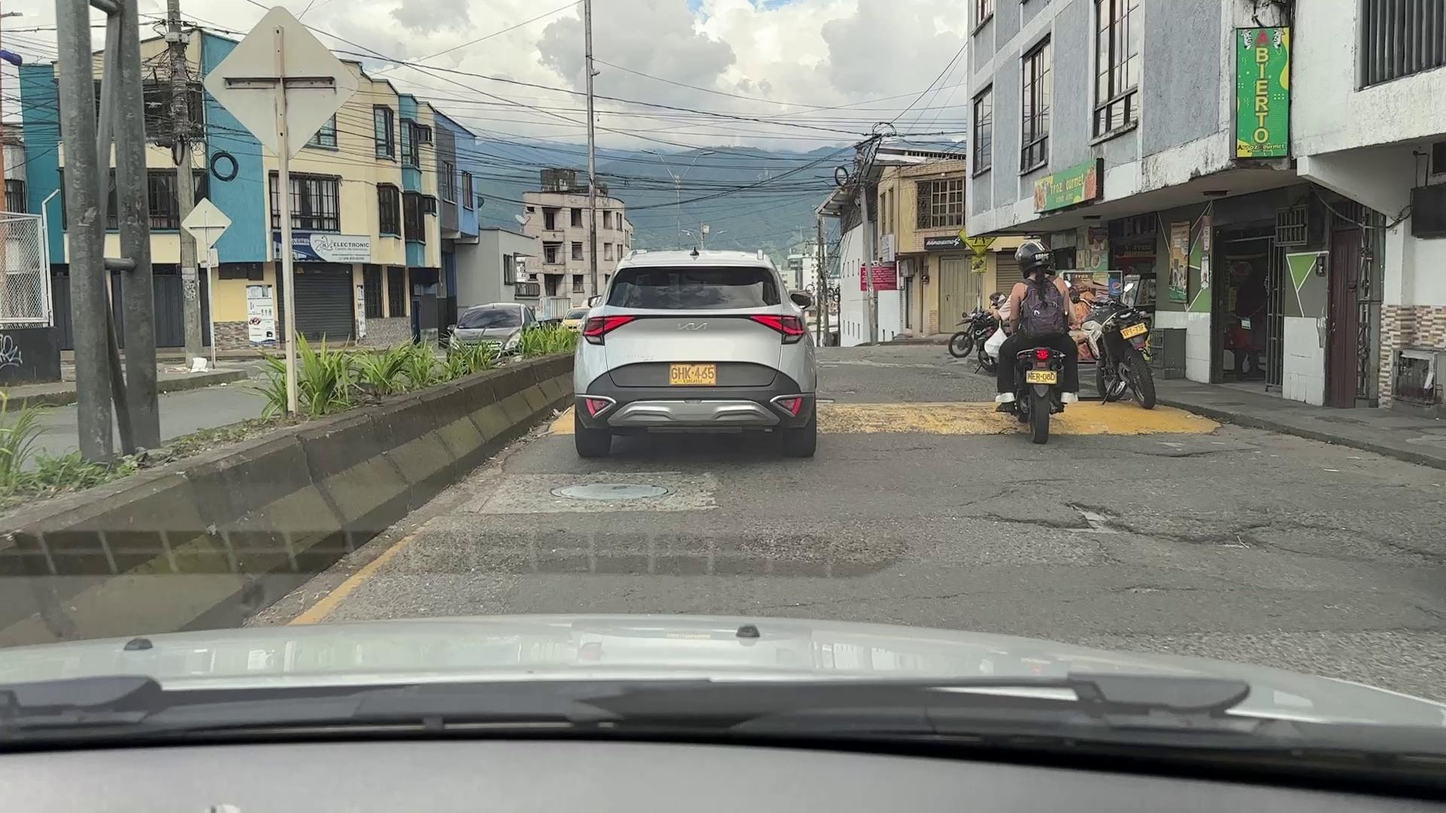bache: (981, 502, 1271, 552), (1140, 451, 1214, 458)
registro: (552, 483, 669, 501)
